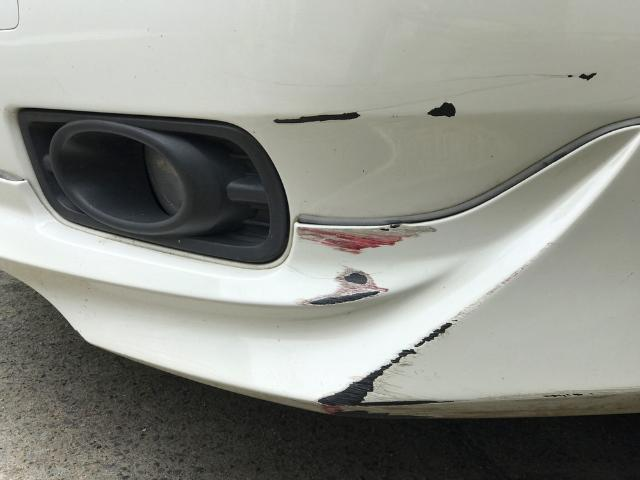scratch: (312, 239, 560, 419), (293, 223, 443, 308), (450, 69, 601, 84), (267, 108, 369, 130), (525, 387, 610, 401), (422, 99, 469, 122)
